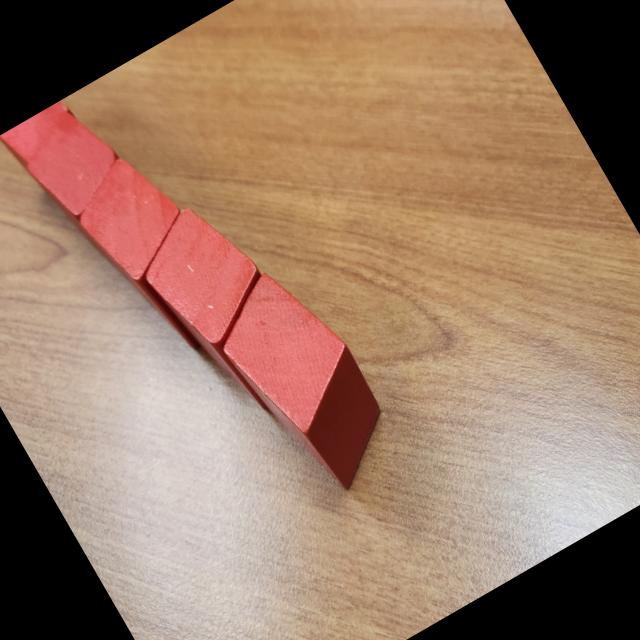red: (197, 255, 412, 514), (124, 188, 326, 430), (60, 144, 245, 371), (12, 98, 150, 253), (0, 99, 93, 186)
